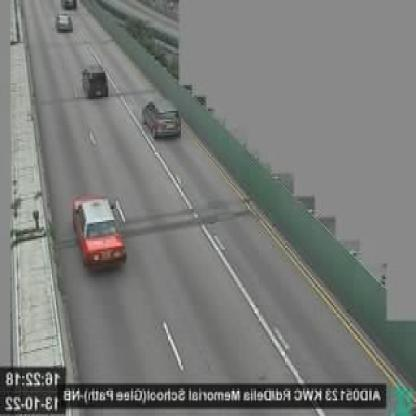Car: (70, 193, 127, 274), (142, 96, 182, 139), (82, 64, 108, 99), (54, 15, 72, 33), (60, 0, 72, 10)
